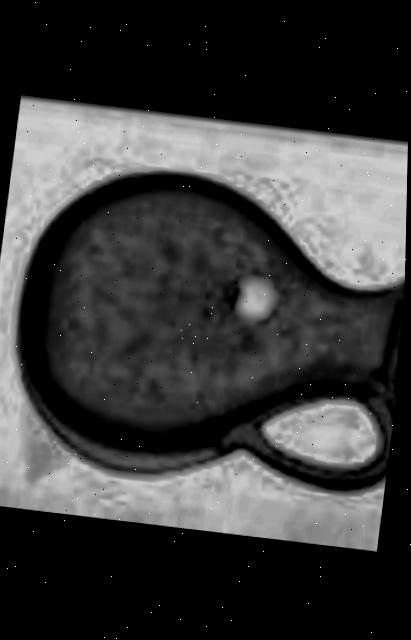El Cantarito: (0, 93, 409, 550)
